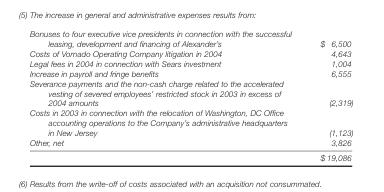table: (28, 28, 352, 161)
table column: (28, 28, 305, 161), (305, 28, 352, 161)
table row: (28, 77, 352, 107), (28, 107, 352, 136), (28, 28, 352, 48), (28, 136, 352, 149), (28, 149, 352, 161), (28, 57, 352, 67), (28, 67, 352, 77), (28, 48, 352, 57)
